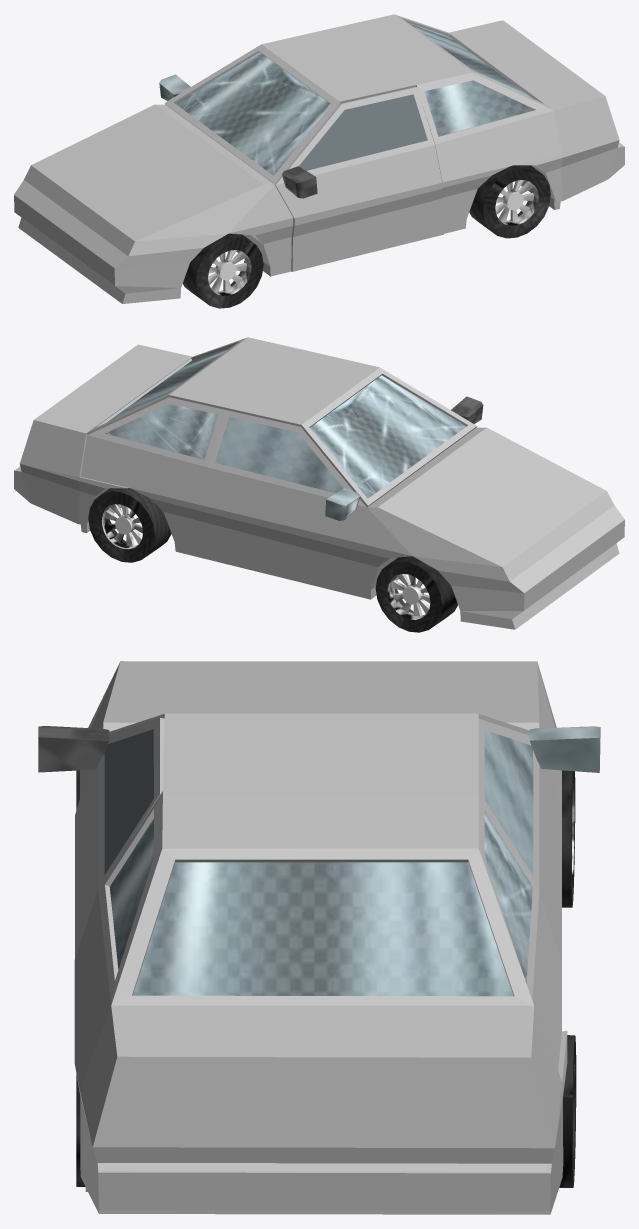
The model's file is cochearreglado.fbx.
3 renders of one model, top to bottom at view 1: azimuth 30°, elevation 25°; view 2: azimuth 150°, elevation 25°; view 3: azimuth 270°, elevation 25°, orthographic. The views are drawn at different scales.
Parts seen in each view (by area): view 1: Plane, Plane.001, Plane.002, Plane.003, Cylinder.002, Cylinder, Cube.003; view 2: Plane, Plane.002, Cylinder.001, Cylinder.003, Cube.003; view 3: Plane, Plane.002, Cube.003, Plane.001, Plane.003, Cylinder.001, Cylinder.003.
Boxes of the visible parts, <box> form: Plane: <box>14,14,624,303</box>; Plane.001: <box>274,87,443,271</box>; Plane.002: <box>175,23,534,175</box>; Plane.003: <box>299,94,427,170</box>; Cylinder.002: <box>469,165,550,238</box>; Cylinder: <box>182,233,263,308</box>; Cube.003: <box>159,74,317,198</box>; Plane: <box>14,337,624,629</box>; Plane.002: <box>105,346,466,498</box>; Cylinder.001: <box>88,488,171,562</box>; Cylinder.003: <box>375,556,457,632</box>; Cube.003: <box>325,396,483,520</box>; Plane: <box>74,661,567,1214</box>; Plane.002: <box>109,730,533,996</box>; Cube.003: <box>38,726,600,772</box>; Plane.001: <box>75,717,164,958</box>; Plane.003: <box>104,729,153,874</box>; Cylinder.001: <box>559,1035,576,1187</box>; Cylinder.003: <box>562,770,575,907</box>.
Bounding box in the file's own units: 685 × 204 × 331.
